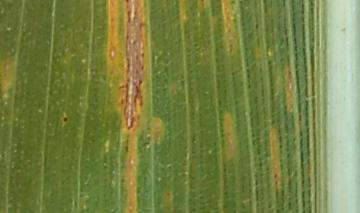tarspot: (59, 112, 70, 124)
